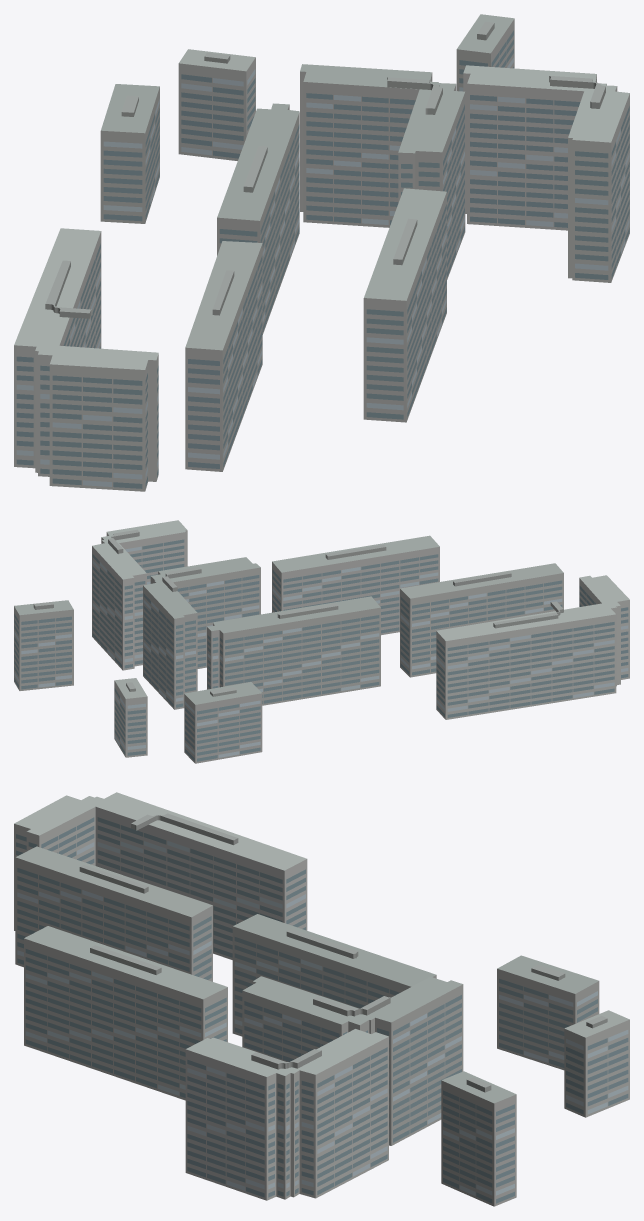
File: apt-a12081703.glb
3 views of the same model, one above another, from view 1: azimuth 30°, elevation 25°; view 2: azimuth 150°, elevation 25°; view 3: azimuth 270°, elevation 25° (orthographic). The views are drawn at different scales.
Visible parts, largest first — view 1: apt-a12081703; view 2: apt-a12081703; view 3: apt-a12081703.
Boxes of the visible parts, x1,y1,x2,y2 form: apt-a12081703: [14, 14, 629, 491]; apt-a12081703: [14, 520, 629, 763]; apt-a12081703: [14, 792, 629, 1206].
Size of the model in its own units: 244 by 47.81 by 207.
